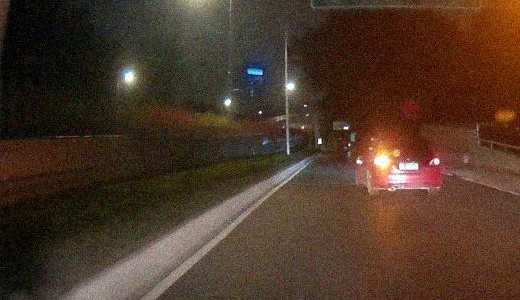L_light: (374, 156, 389, 165)
R_light: (429, 157, 440, 166)
T_light: (398, 137, 406, 140)
night-left: (371, 132, 442, 197)
